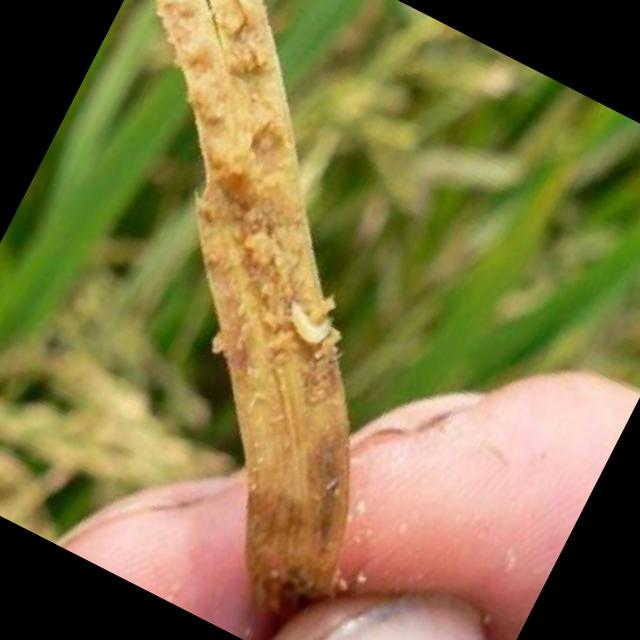whorl-maggot: (268, 287, 344, 358)
